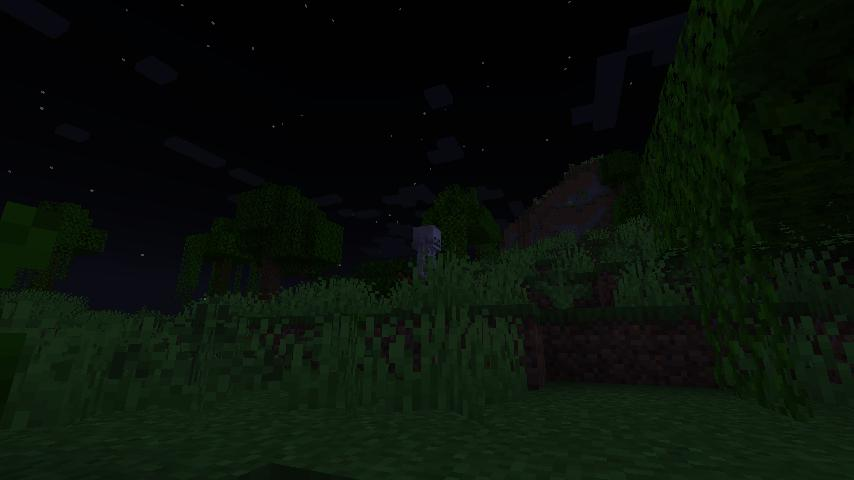skeleton: (407, 223, 443, 284)
